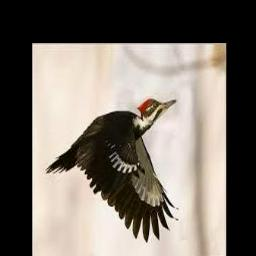Woodpecker: (46, 98, 179, 243)
